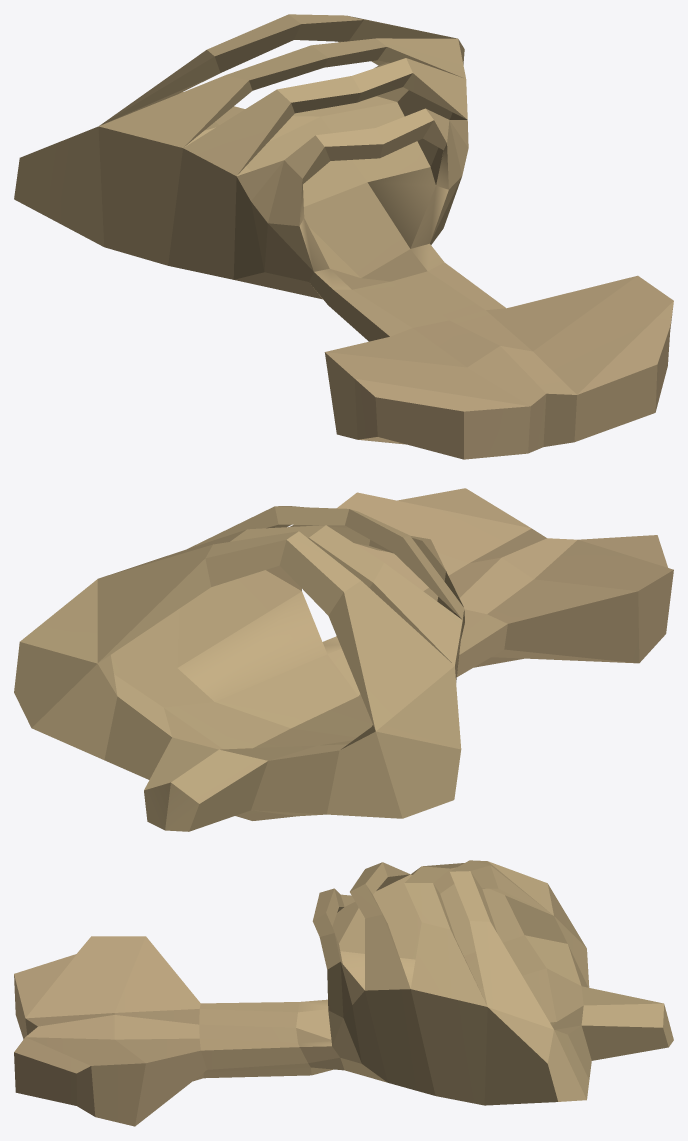
The model's file is Skeleton_body.fbx.
The picture shows the model from 3 angles, top to bottom: view 1: azimuth 30°, elevation 25°; view 2: azimuth 150°, elevation 25°; view 3: azimuth 270°, elevation 25°; orthographic projection. The views are drawn at different scales.
Parts seen in each view (by area): view 1: Skeleton_body; view 2: Skeleton_body; view 3: Skeleton_body.
Part boxes in pixels (bbox=[...]): Skeleton_body: bbox=[14, 14, 673, 459]; Skeleton_body: bbox=[14, 488, 673, 831]; Skeleton_body: bbox=[14, 860, 673, 1126].
Size of the model in its own units: 44.16 by 26.03 by 68.26.
